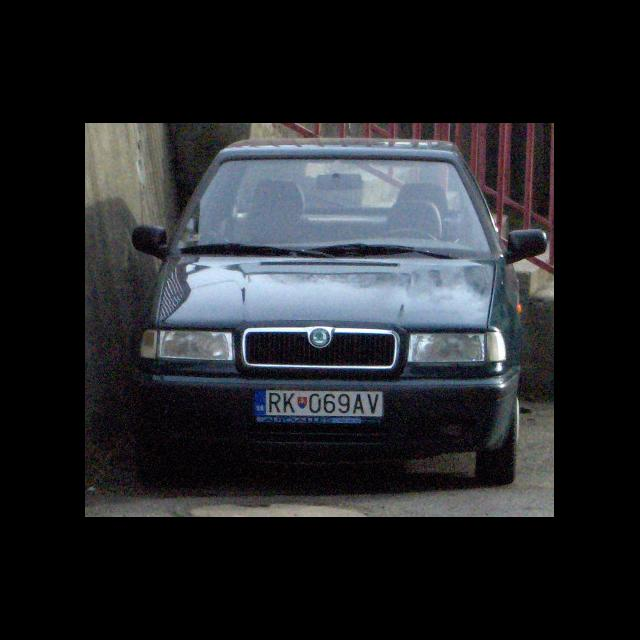Plate: (260, 387, 384, 418)
